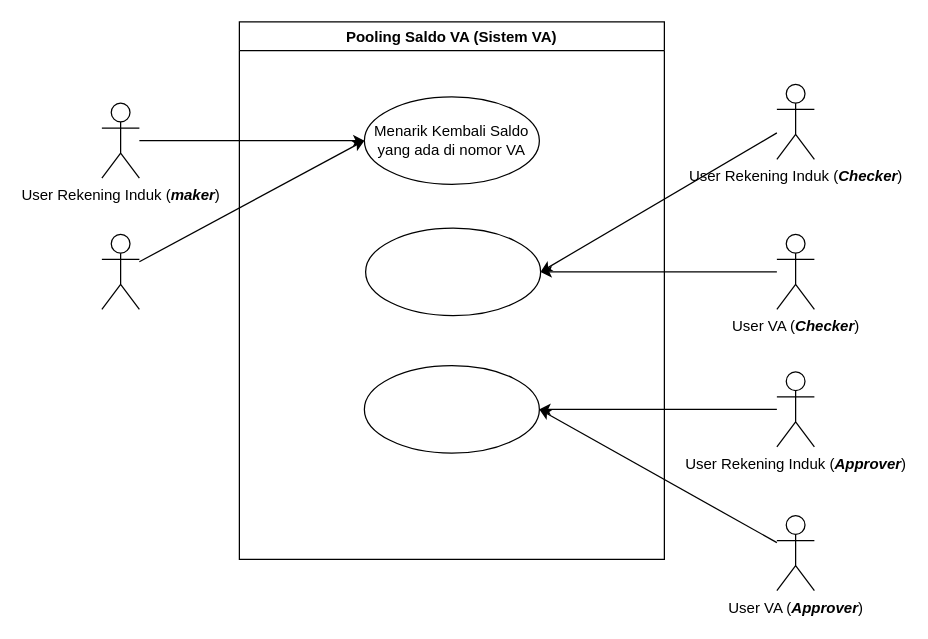
This 928x639 diagram has some shape labels left out. The shapes that lost their labels are listed below. From the top down, each one's centre as x and y in pixels, then its label:
(120,271): User VA ( maker )
(452,271): Mengecek pooling saldo VA
(451,408): Mengotorisasi Pooling Saldo VA
